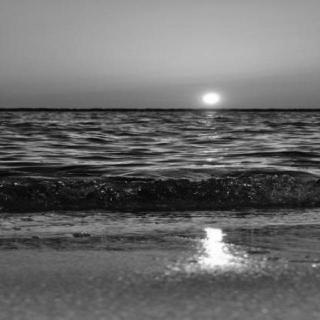other: (191, 90, 235, 108)
